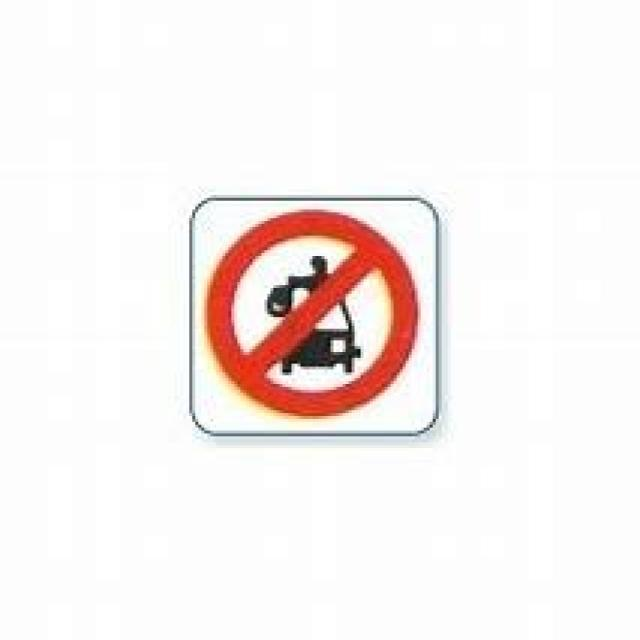all motor vehicle prohibited: (201, 207, 428, 426)
